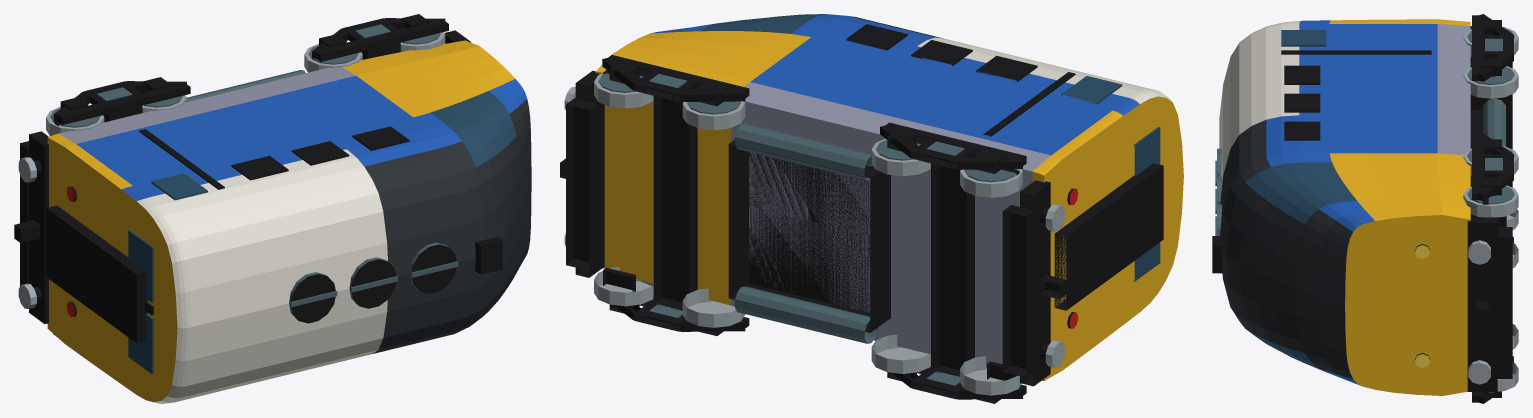
3 renders of one model, left to right at view 1: azimuth 30°, elevation 25°; view 2: azimuth 150°, elevation 25°; view 3: azimuth 270°, elevation 25°, orthographic. The views are drawn at different scales.
Visible parts, largest first — view 1: default_body, default_gangway, default_bogie1, default_bogie-1, default_beam-1, default_fan2, default_fan0, default_fan1, default_buffers-1, default_screen-10.62, default_exhaust, default_plough-1 (+7 smaller); view 2: default_body, default_tank, default_bogie1, default_bogie-1, default_gangway, default_plough-1, default_plough1, default_air_tank-1, default_air_tank1, default_beam-1, default_beam1, default_buffers-1 (+8 smaller); view 3: default_body, default_bogie1, default_beam1, default_bogie-1, default_plough1, default_buffers1, default_air_tank1, default_side1_-3.30_3.85_glass_dark, default_side1_-2.51_2.10_black, default_side1_0.30_3.95_black, default_side1_-0.80_3.95_black, default_side1_-1.90_3.95_black (+3 smaller).
Boxes of the visible parts, left/top/right/bottom form: default_body: left=47, top=40, right=531, bottom=403; default_gangway: left=46, top=205, right=147, bottom=343; default_bogie1: left=304, top=14, right=448, bottom=72; default_bogie-1: left=46, top=77, right=190, bottom=335; default_beam-1: left=29, top=131, right=48, bottom=323; default_fan2: left=410, top=242, right=456, bottom=293; default_fan0: left=289, top=272, right=335, bottom=323; default_fan1: left=349, top=257, right=396, bottom=308; default_buffers-1: left=14, top=157, right=41, bottom=308; default_screen-10.62: left=128, top=230, right=153, bottom=302; default_exhaust: left=475, top=236, right=502, bottom=274; default_plough-1: left=20, top=141, right=28, bottom=285; default_body: left=595, top=14, right=1183, bottom=380; default_tank: left=728, top=139, right=890, bottom=332; default_bogie1: left=594, top=55, right=749, bottom=335; default_bogie-1: left=871, top=122, right=1026, bottom=403; default_gangway: left=1054, top=163, right=1163, bottom=310; default_plough-1: left=1002, top=205, right=1034, bottom=377; default_plough1: left=566, top=98, right=597, bottom=270; default_air_tank-1: left=735, top=286, right=877, bottom=343; default_air_tank1: left=735, top=123, right=873, bottom=180; default_beam-1: left=1020, top=180, right=1050, bottom=386; default_beam1: left=575, top=70, right=604, bottom=277; default_buffers-1: left=1038, top=204, right=1066, bottom=367; default_body: left=1219, top=19, right=1470, bottom=395; default_bogie1: left=1463, top=133, right=1518, bottom=403; default_beam1: left=1467, top=217, right=1497, bottom=391; default_bogie-1: left=1463, top=14, right=1518, bottom=267; default_plough1: left=1497, top=227, right=1512, bottom=378; default_buffers1: left=1468, top=240, right=1490, bottom=384; default_air_tank1: left=1483, top=98, right=1505, bottom=146; default_side1_-3.30_3.85_glass_dark: left=1281, top=30, right=1326, bottom=46; default_side1_-2.51_2.10_black: left=1281, top=50, right=1431, bottom=54; default_side1_0.30_3.95_black: left=1284, top=121, right=1320, bottom=140; default_side1_-0.80_3.95_black: left=1284, top=93, right=1320, bottom=112; default_side1_-1.90_3.95_black: left=1284, top=65, right=1320, bottom=84.
Bounding box in the file's own units: 8.46 × 3.9 × 5.1.
